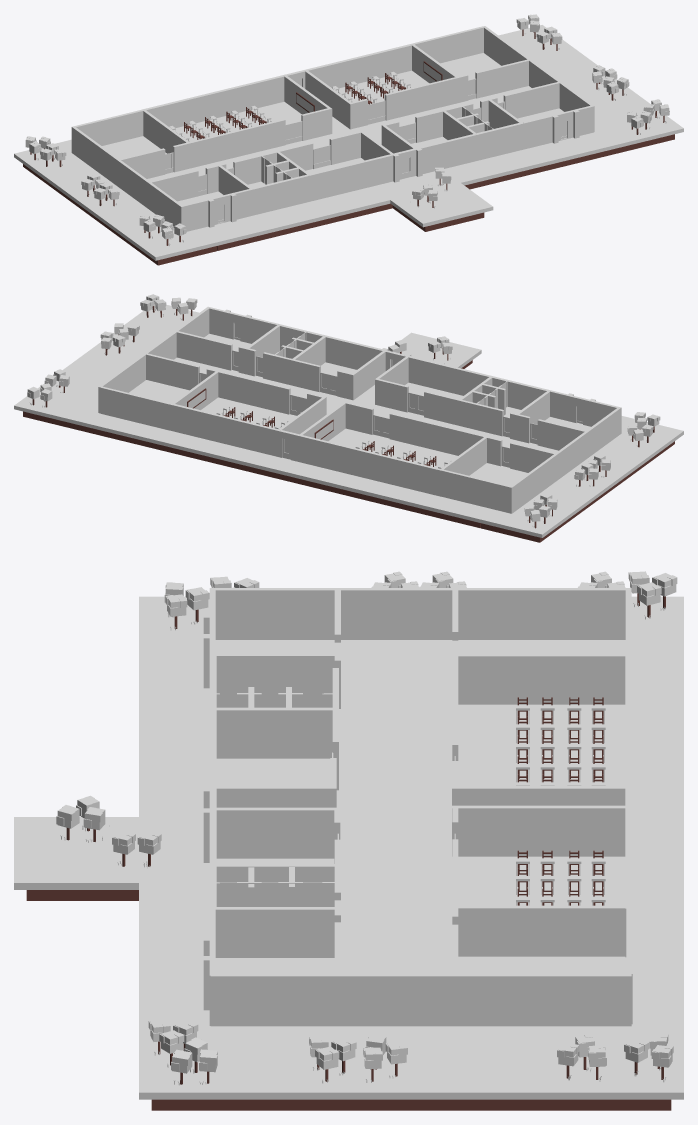
Rendered from high school environment.fbx.
3 views of the same model, one above another, from view 1: azimuth 30°, elevation 25°; view 2: azimuth 150°, elevation 25°; view 3: azimuth 270°, elevation 25° (orthographic). The views are drawn at different scales.
Parts seen in each view (by area): view 1: Plane.014, Cube.015, Cube.051, Cube, Cube.180, Cube.056, Cube.181, Cube.060, Cube.025, Cube.021, Cube.037, Cube.217 (+38 smaller); view 2: Plane.014, Cube.051, Cube.015, Cube.184, Cube.021, Cube.056, Cube.058, Cube.197, Cube.020, Cube.060, Cube.047, Cube.059 (+39 smaller); view 3: Plane.014, Cube.183, Cube.184, Cube.196, Cube, Cube.182, Cube.181, Cube.191, Cube.048, Cube.064, Cube.018, Cube.195 (+39 smaller).
Part boxes in pixels (x1,y1,x2,y2): Plane.014: (102,53,565,222); Cube.015: (251,123,522,215); Cube.051: (142,43,412,127); Cube: (390,183,493,231); Cube.180: (115,218,225,265); Cube.056: (189,119,285,168); Cube.181: (594,104,683,153); Cube.060: (384,76,459,120); Cube.025: (198,212,285,250); Cube.021: (14,139,97,190); Cube.037: (263,198,344,236); Cube.217: (523,105,594,149); Plane.014: (129,333,590,485); Cube.051: (170,404,441,496); Cube.015: (280,324,549,409); Cube.184: (14,379,98,430); Cube.021: (472,494,582,542); Cube.056: (389,413,486,455); Cube.058: (424,391,503,436); Cube.197: (100,386,171,430); Cube.020: (441,469,512,513); Cube.060: (216,370,290,414); Cube.047: (539,469,616,517); Cube.059: (263,352,320,392); Plane.014: (215,640,626,973); Cube.183: (399,1026,555,1110); Cube.184: (527,1026,683,1110); Cube.196: (456,973,631,1026); Cube: (14,817,138,900); Cube.182: (268,1026,424,1110); Cube.181: (139,1026,294,1110); Cube.191: (456,588,631,639); Cube.048: (457,905,629,956); Cube.064: (452,805,626,856); Cube.018: (456,653,631,704); Cube.195: (210,973,337,1026).
Size of the model in its own units: 37982 by 2619 by 21679.
